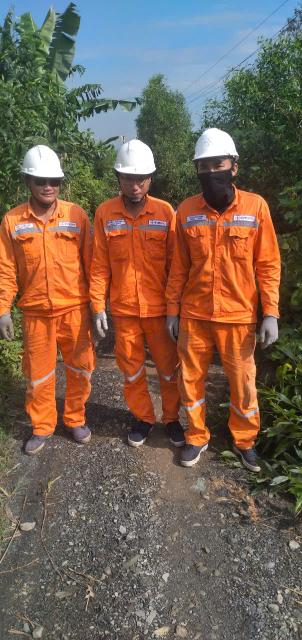gloves: (250, 306, 289, 354), (87, 296, 116, 341), (160, 307, 187, 346), (0, 308, 22, 349)
helmet: (183, 127, 259, 175), (8, 139, 72, 188), (107, 137, 163, 183)
shoes: (13, 413, 62, 474), (226, 425, 271, 479), (118, 406, 158, 455), (60, 411, 97, 456), (181, 436, 214, 469), (158, 417, 189, 450)
